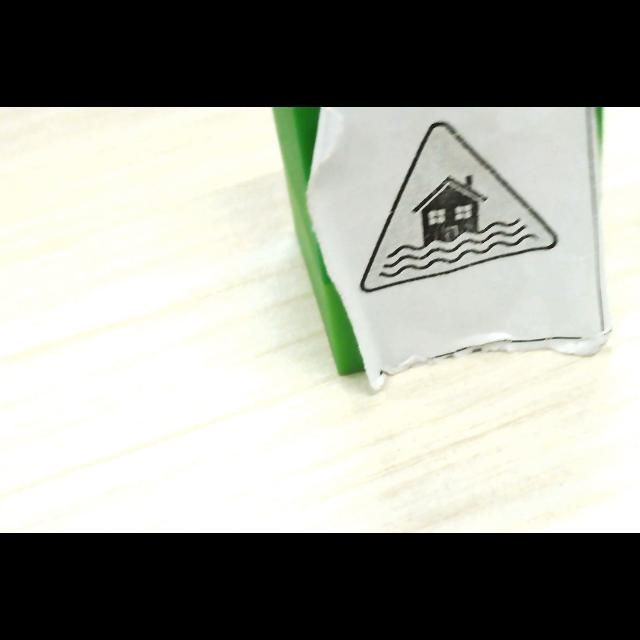Tsunami: (361, 122, 557, 293)
